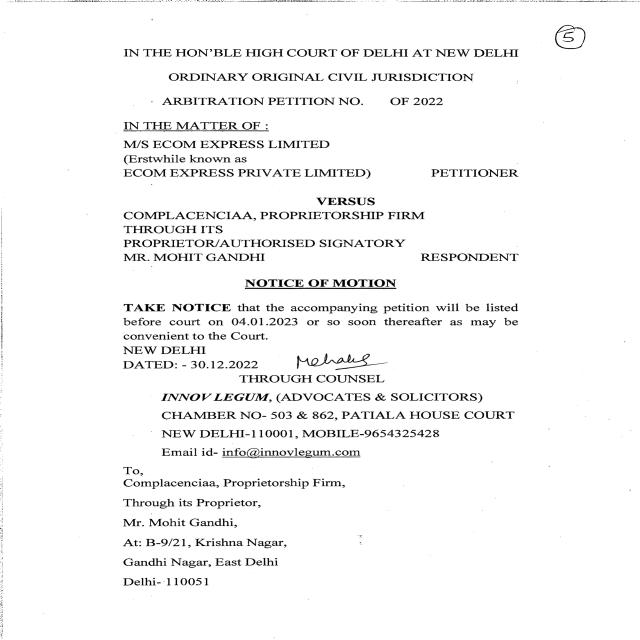page-number: (520, 4, 637, 153)
